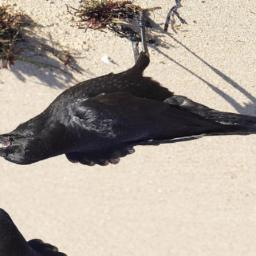Crow: (0, 0, 256, 234)
